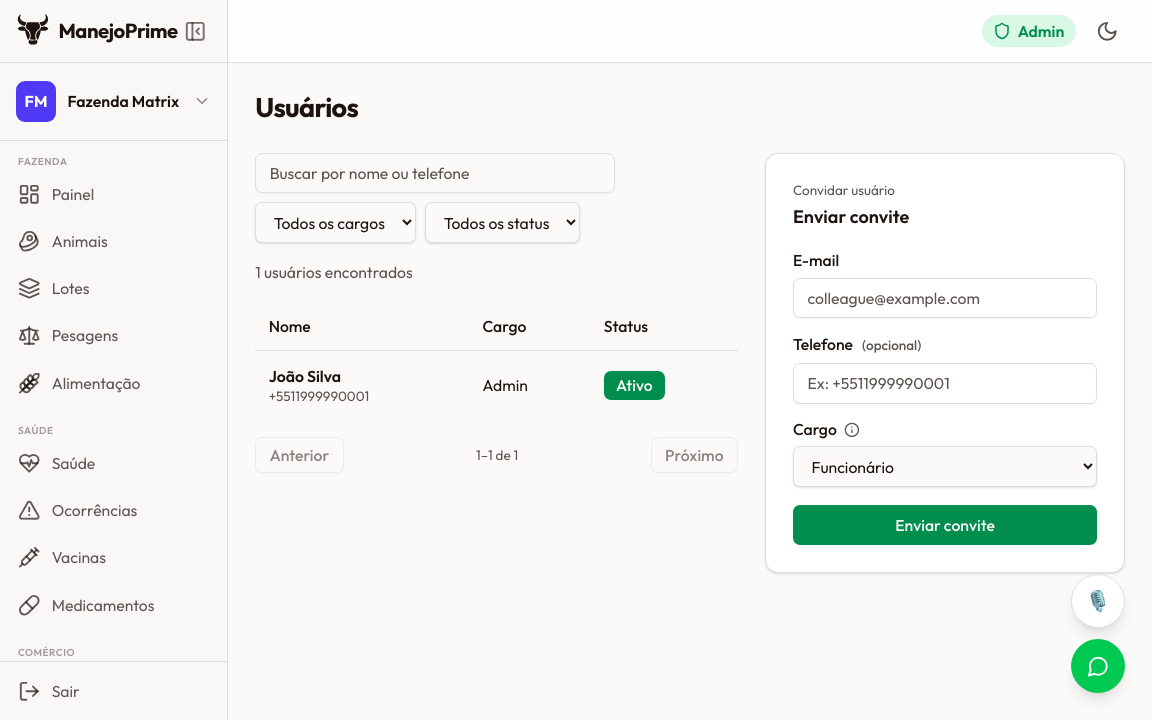
Test: admin users page › loads users list, filters by search and role, and sends a user invite
Expected: the text "João Silva" is shown, left=269, top=366, right=341, bottom=386
Expected: the text "+5511999990001" is shown, left=269, top=388, right=369, bottom=406
Step 1. Type "silva" into the field named "Buscar usuários" → (435, 173), box left=255, top=153, right=615, bottom=194
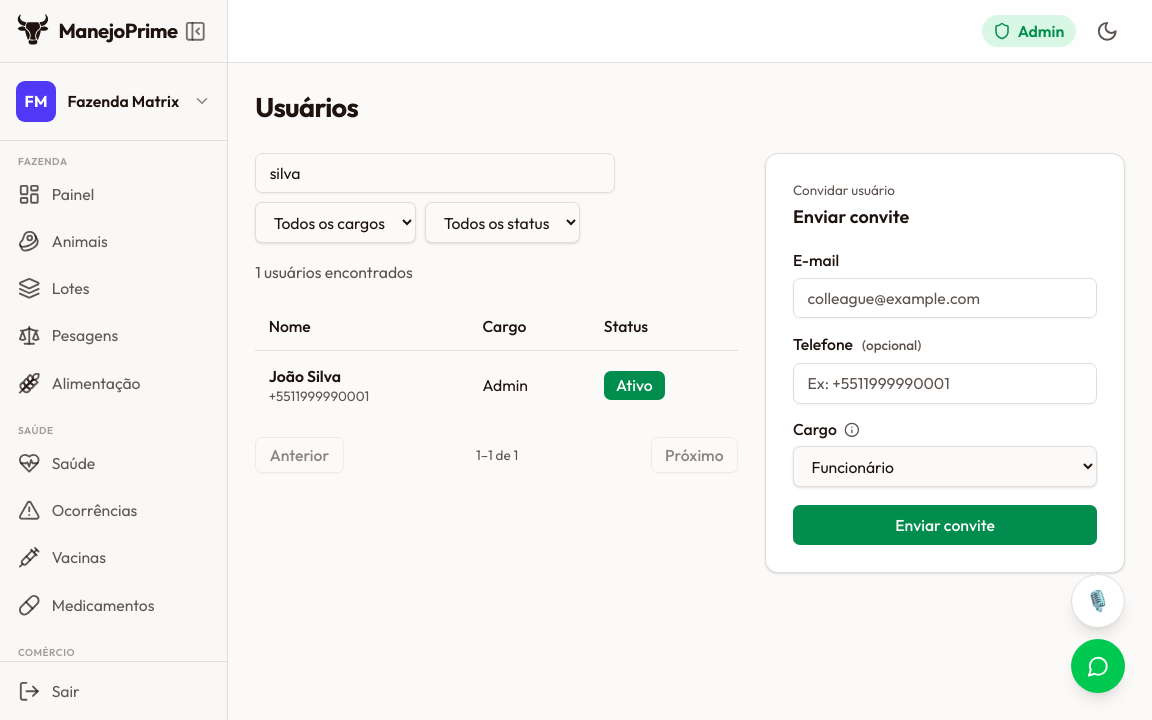
Step 2. Select "Admin" in the dropdown named "Filter role" → (336, 223), box left=255, top=202, right=416, bottom=243
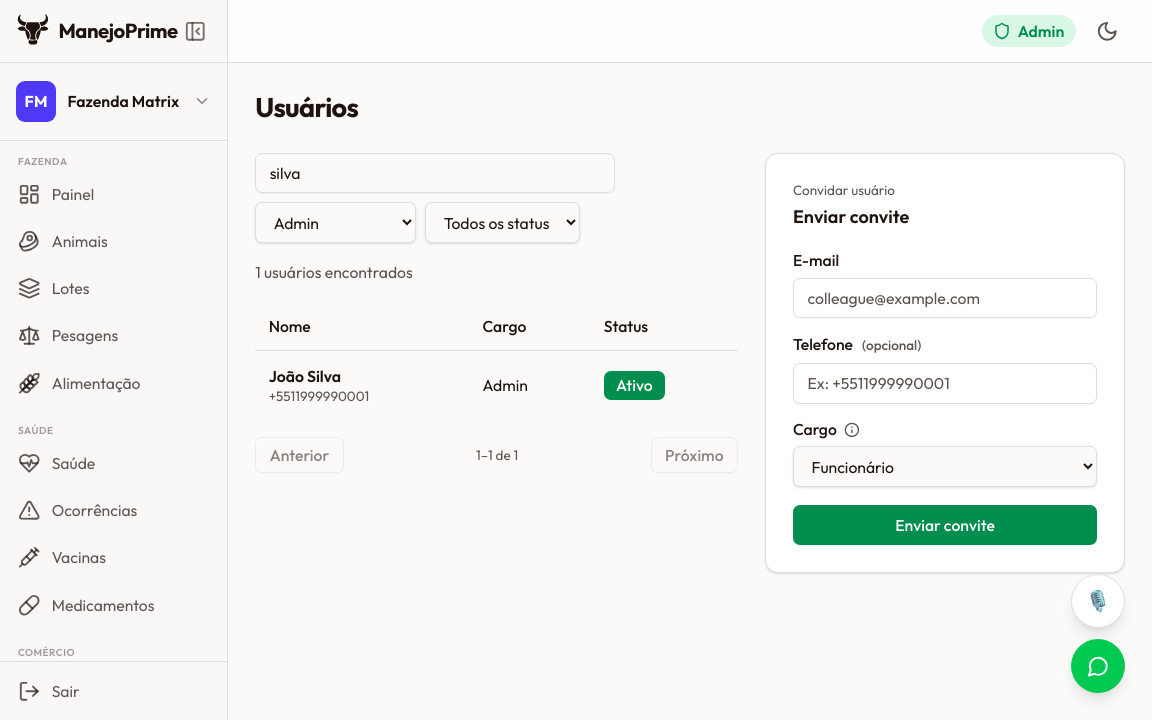
Step 3. Type "maria@example.com" into the field labelled "E-mail" → (945, 298), box left=793, top=278, right=1097, bottom=318
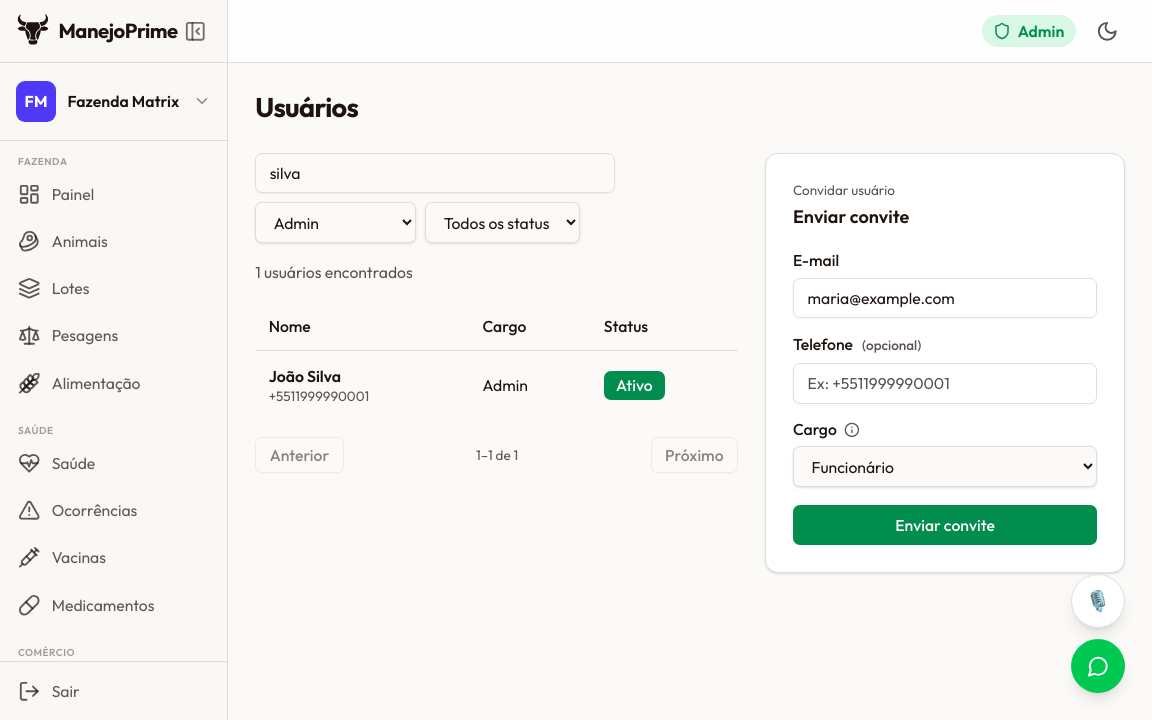
Step 4. Select "Funcionário" in the dropdown labelled "Cargo" → (945, 467), box left=793, top=446, right=1097, bottom=487
Step 5. Click the button "Enviar convite" → (945, 525), box left=793, top=505, right=1097, bottom=546
(page scrolled)
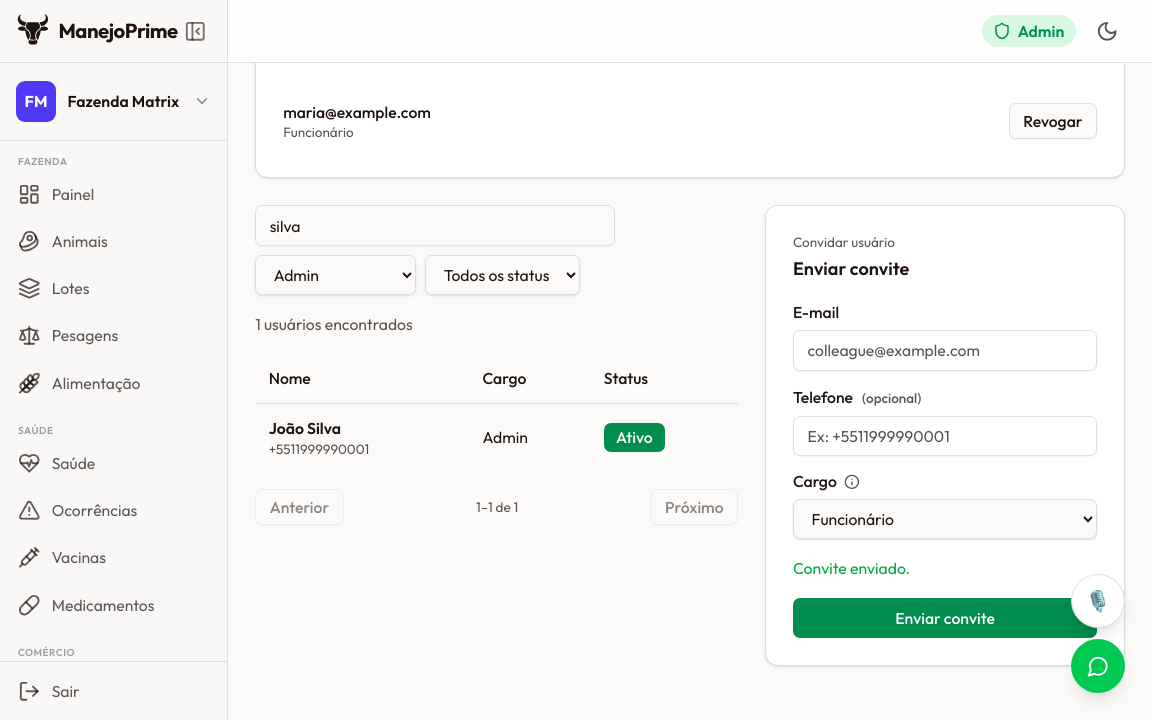
Expected: the text "Convite enviado." is shown, left=793, top=558, right=910, bottom=578
